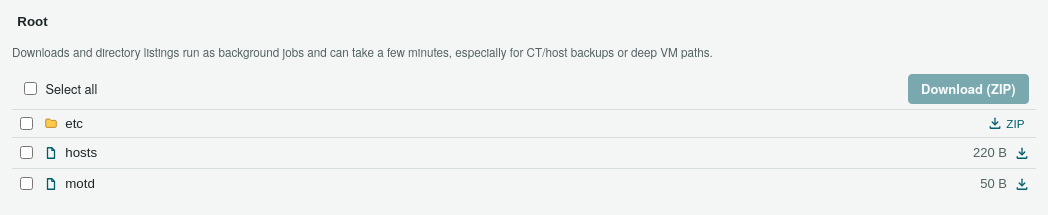
FileBrowserPanel › tracks two concurrent downloads independently, each keeping its own row disabled until it settles
The image size is (1048, 215).
Later steps or results of the test are not shown.
Check: the text "hosts" is shown, box [65,145,97,160]
Click the button "hosts 220 B" at (81, 153), box [36,138,1036,168]
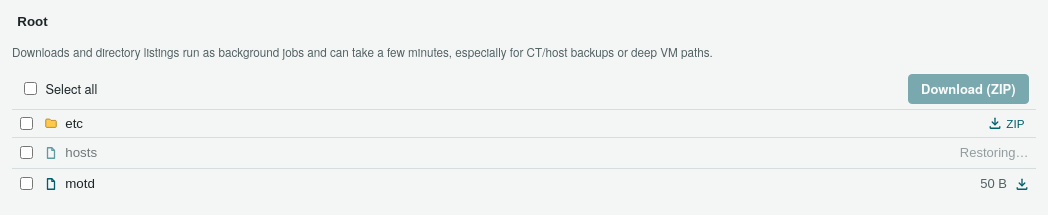
Check: the button "hosts Restoring…" is disabled, box [36,138,1036,168]
Click the button "motd 50 B" at (51, 184), box [36,169,1036,199]
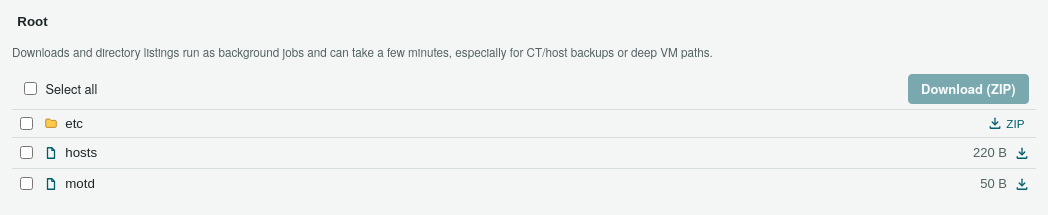
Check: the button "hosts 220 B" is enabled, box [36,138,1036,168]
